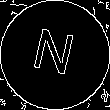N_S: (30, 26, 80, 84)
